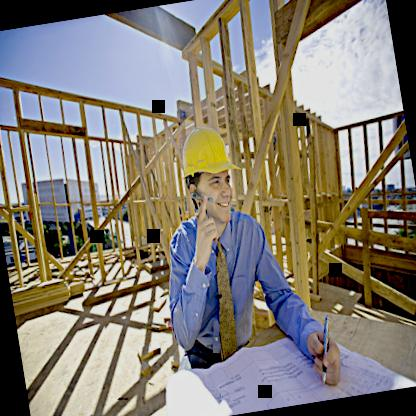helmet: (171, 112, 244, 225)
